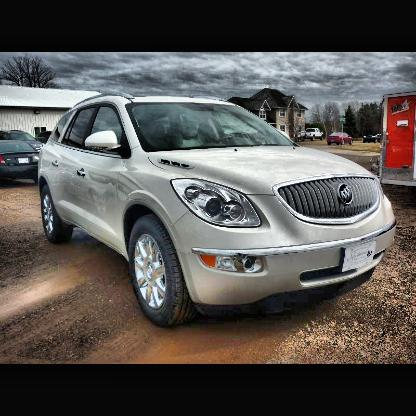Buick Enclave SUV 2012: (35, 94, 400, 324)
